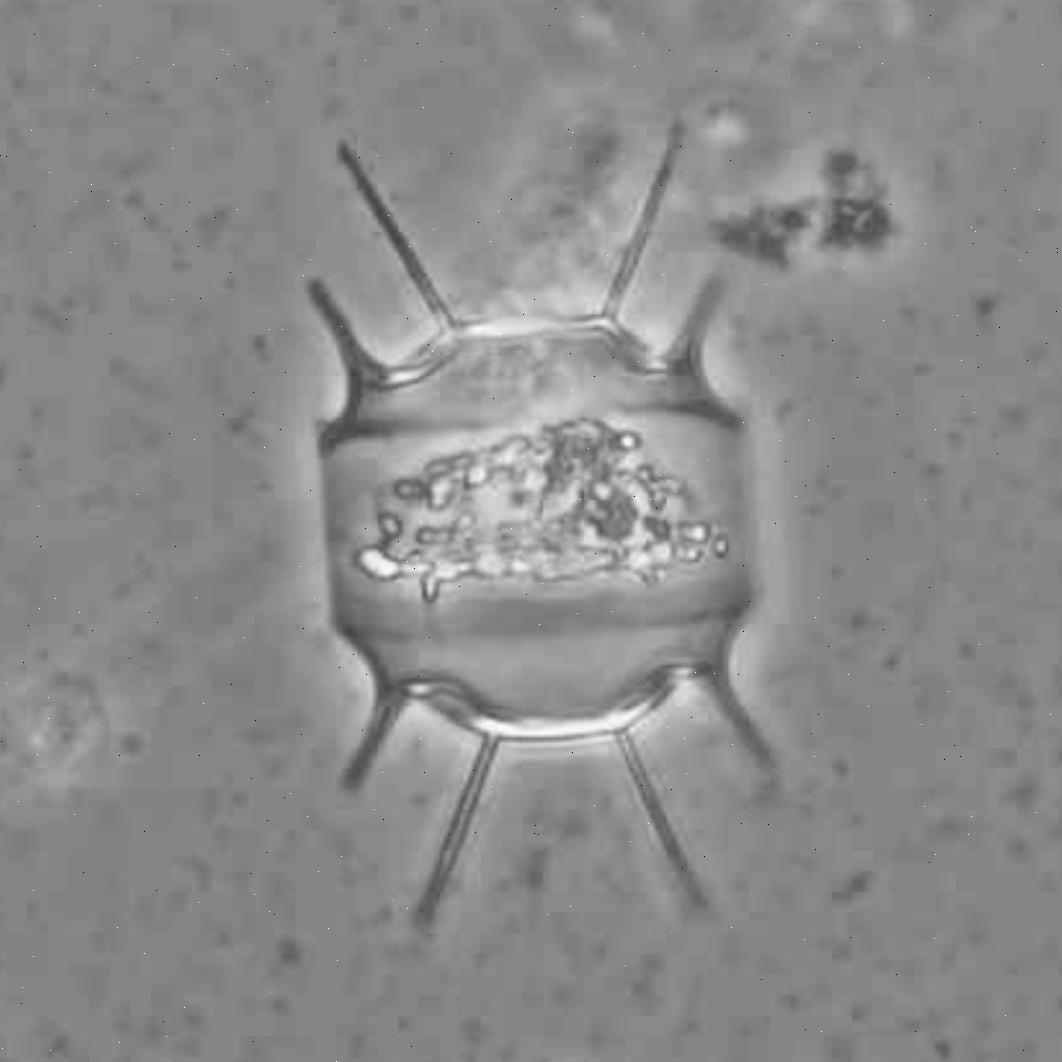odontella_mobiliensis: (302, 128, 764, 933)
